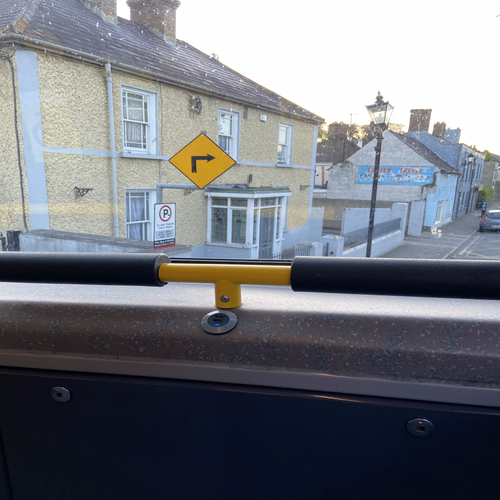Dangerous curve: (172, 131, 235, 183)
